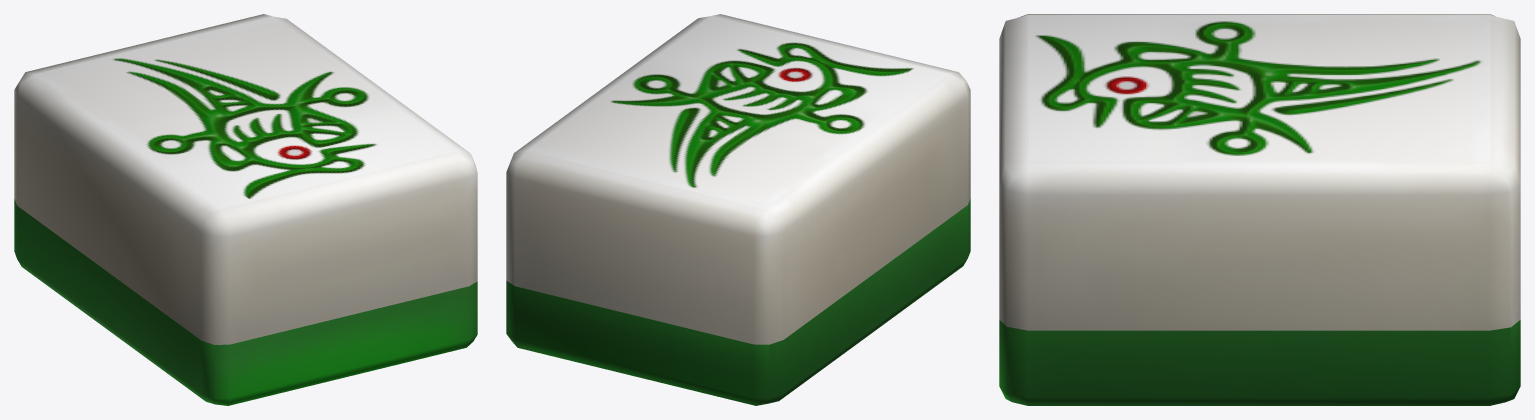
3 renders of one model, left to right at view 1: azimuth 30°, elevation 25°; view 2: azimuth 150°, elevation 25°; view 3: azimuth 270°, elevation 25°, orthographic. The views are drawn at different scales.
Visible parts, largest first — view 1: mj_01_up; view 2: mj_01_up; view 3: mj_01_up.
Boxes of the visible parts, x1=… form: mj_01_up: x1=14, y1=14, x2=477, y2=405; mj_01_up: x1=506, y1=14, x2=970, y2=405; mj_01_up: x1=999, y1=14, x2=1520, y2=405.
Bounding box in the file's own units: 4.05 × 2.75 × 5.32.
